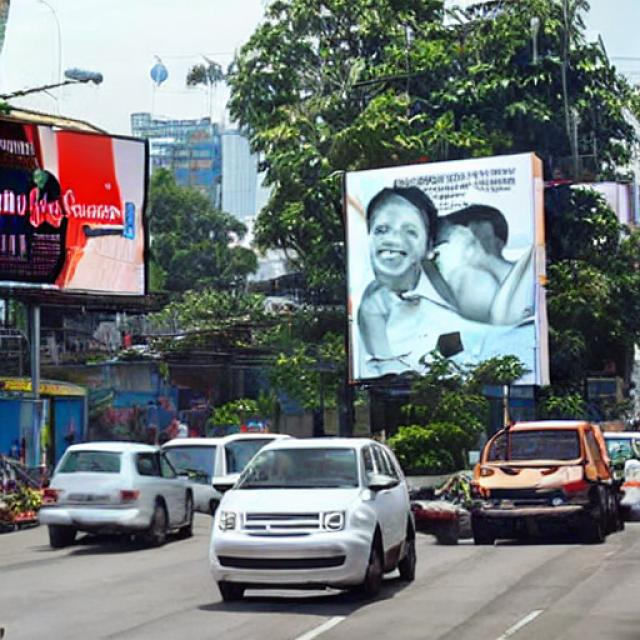Billboard: (338, 153, 550, 391), (0, 111, 151, 305)
